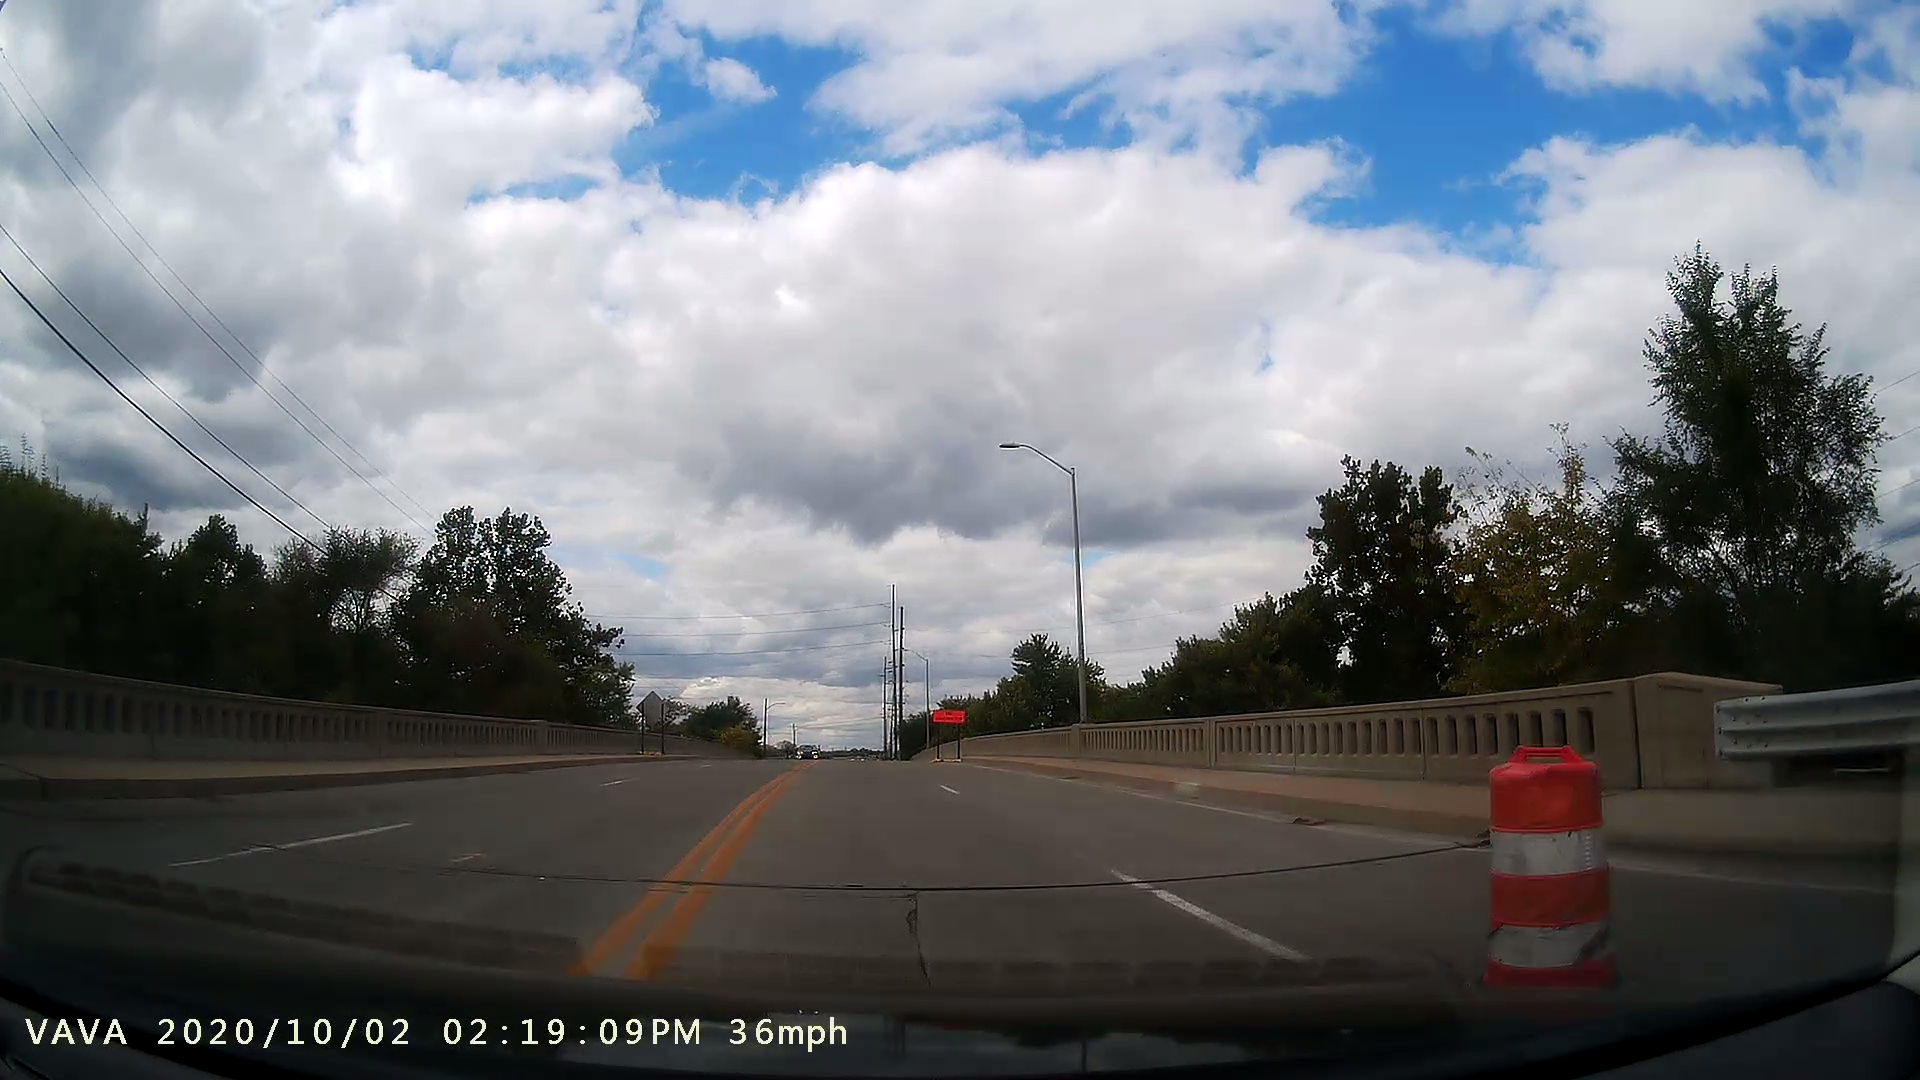const_barrel: (1429, 724, 1659, 981)
